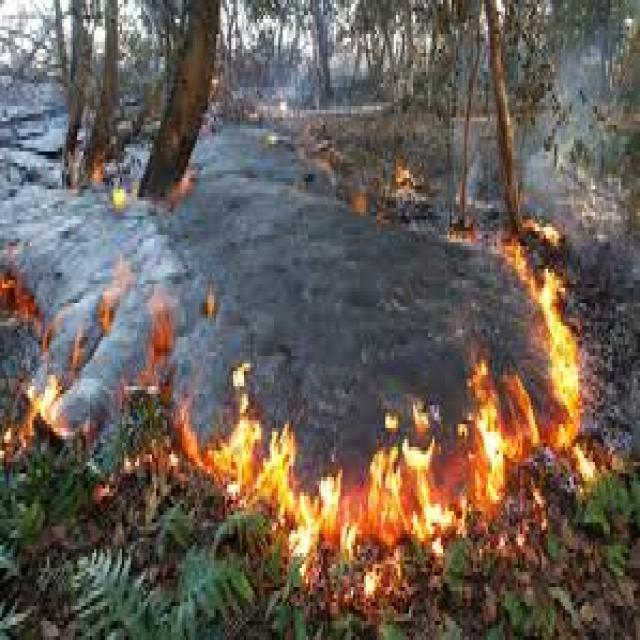Fire: (232, 412, 510, 528), (532, 252, 588, 462)
